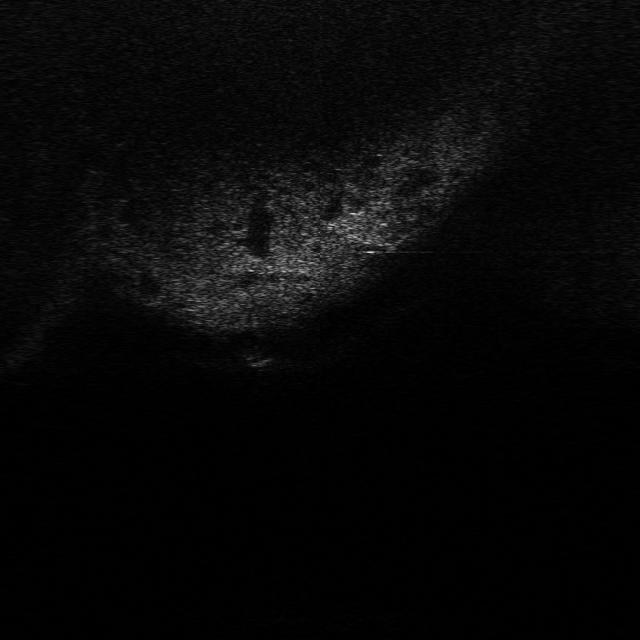cube: (238, 339, 288, 371)
